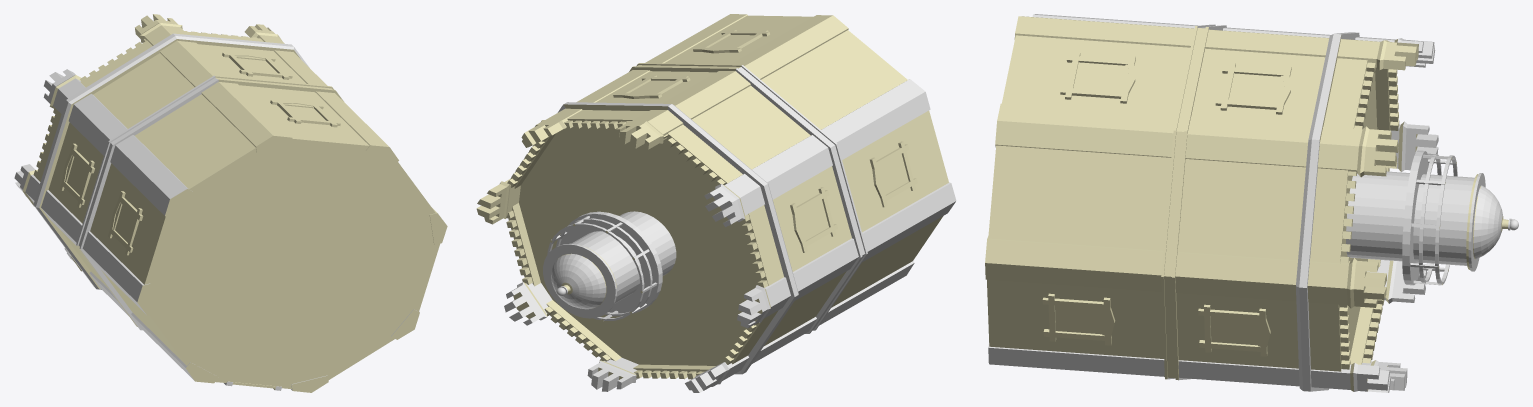
The model's file is farol.fbx.
3 views of the same model, side by side, from view 1: azimuth 30°, elevation 25°; view 2: azimuth 150°, elevation 25°; view 3: azimuth 270°, elevation 25° (orthographic). The views are drawn at different scales.
Visible parts, largest first — view 1: torre; view 2: torre; view 3: torre.
Boxes of the visible parts, bbox=[...] form: torre: bbox=[14, 14, 447, 392]; torre: bbox=[476, 14, 956, 392]; torre: bbox=[985, 14, 1518, 392].
Bounding box in the file's own units: 1.22 × 0.9687 × 1.4.
